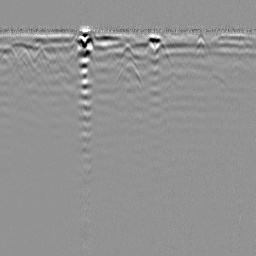cavity: (113, 59, 144, 87)
